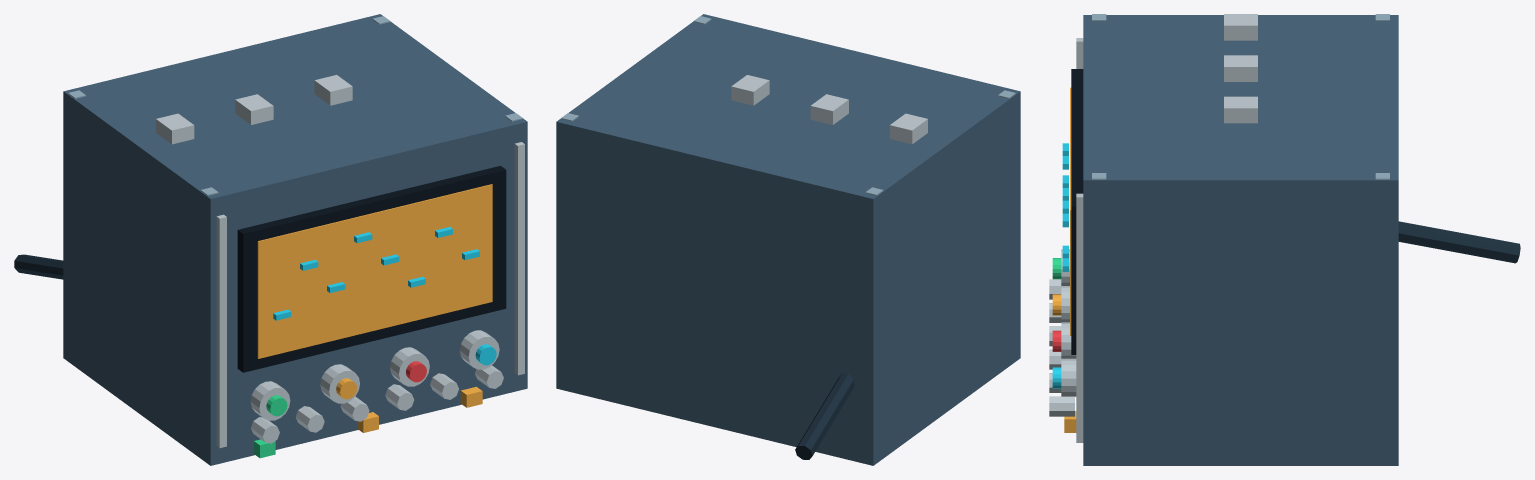
Rendered from 12_L80_LaserTemperatureControlMount.fbx.
3 views of the same model, side by side, from view 1: azimuth 30°, elevation 25°; view 2: azimuth 150°, elevation 25°; view 3: azimuth 270°, elevation 25° (orthographic). The views are drawn at different scales.
Parts seen in each view (by area): view 1: LaserTemperatureControlMount; view 2: LaserTemperatureControlMount; view 3: LaserTemperatureControlMount.
Boxes of the visible parts, x1,y1,x2,y2 form: LaserTemperatureControlMount: [14, 14, 527, 465]; LaserTemperatureControlMount: [556, 14, 1020, 465]; LaserTemperatureControlMount: [1049, 14, 1520, 465].
Size of the model in its own units: 92 by 77.86 by 111.
